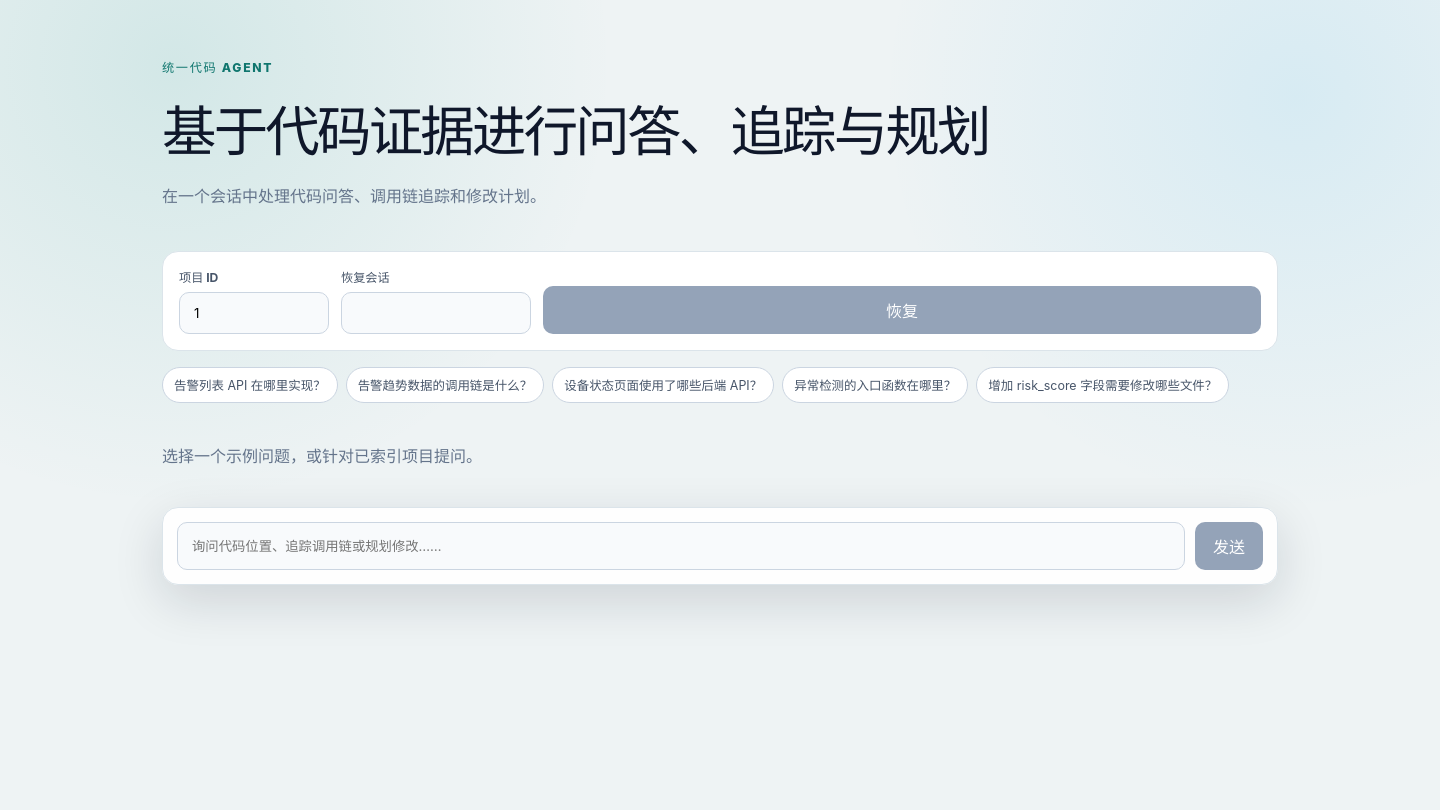
Test: AgentChat › disables blank submission and provides five demo questions
Expected: the button with test id "send" is disabled, [1195,522,1263,570]
What coordinates should you click on to do the following:
click the button with test id "demo-question" showing "告警列表 API 在哪里实现？"
I would click on:
 (250, 385)
Its box is [162,367,338,403].
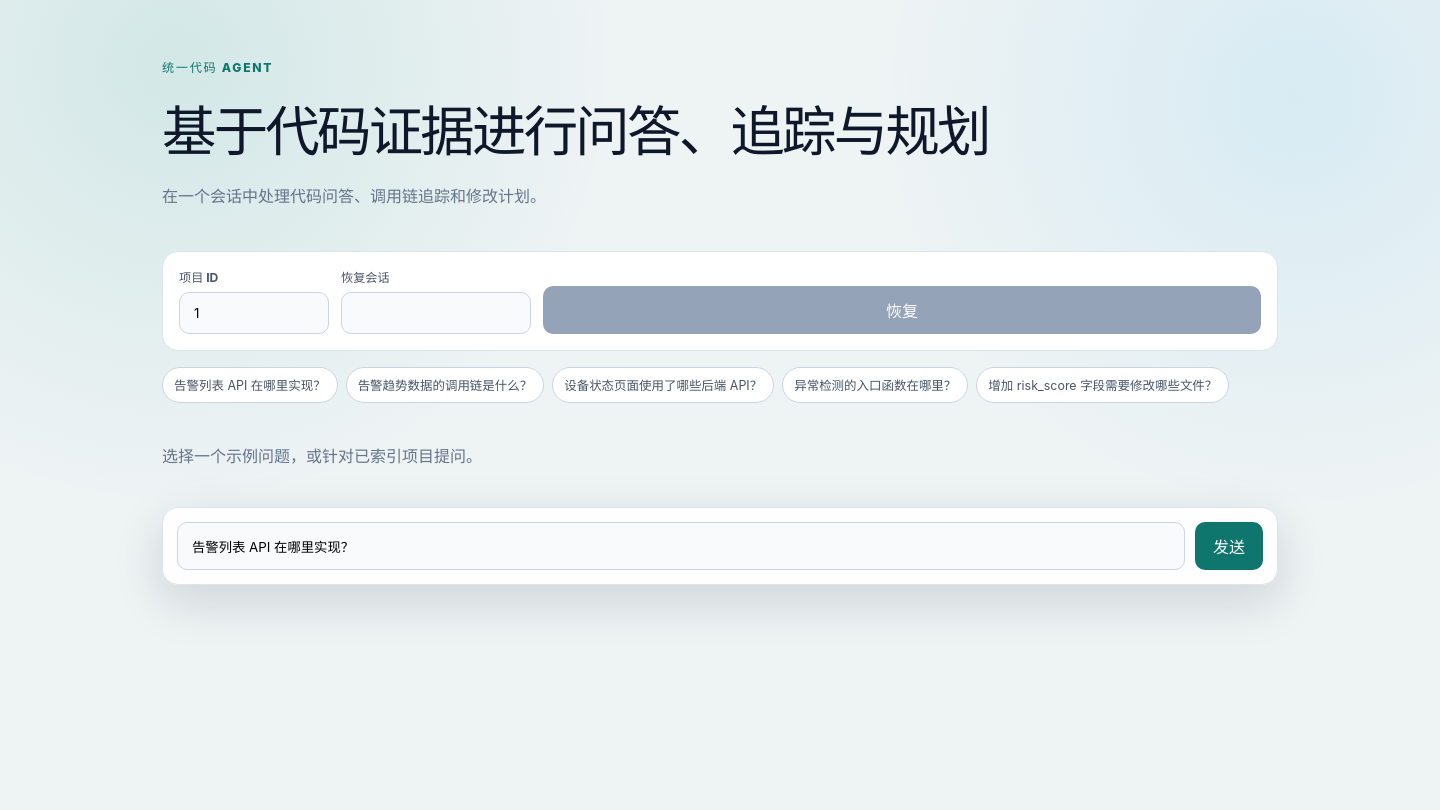
Now the field with test id "question" is not empty, box [177,522,1185,570]
